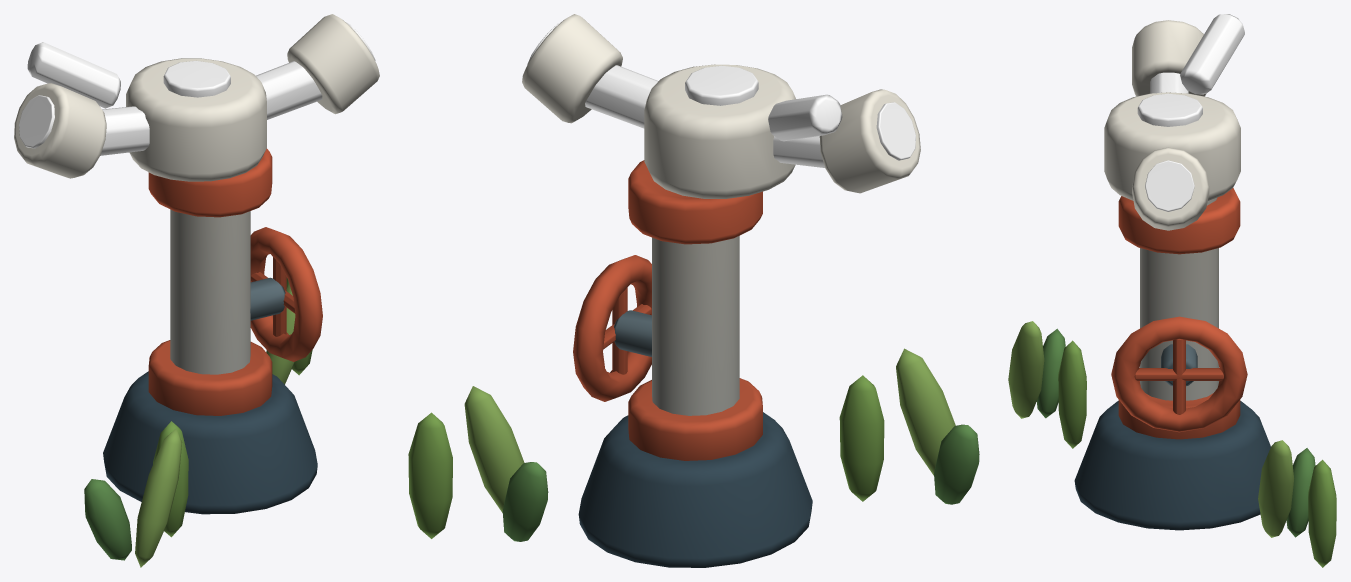
File: sprinkler.glb
3 views of the same model, side by side, from view 1: azimuth 30°, elevation 25°; view 2: azimuth 150°, elevation 25°; view 3: azimuth 270°, elevation 25° (orthographic). The views are drawn at different scales.
Parts seen in each view (by area): view 1: move_spin_head, Sprinkler_ceramic_foot, Sprinkler_copper_riser, Sprinkler_brass_collar, Sprinkler_tap_wheel, Sprinkler_brass_collar.001, decor_Grass.002, decor_Grass, decor_Grass.001, Sprinkler_tap_connector, decor_Grass.005, Sprinkler_tap_spoke.001; view 2: move_spin_head, Sprinkler_ceramic_foot, Sprinkler_copper_riser, Sprinkler_brass_collar, Sprinkler_brass_collar.001, Sprinkler_tap_wheel, decor_Grass.004, decor_Grass.001, decor_Grass.005, decor_Grass.002, decor_Grass.003, decor_Grass (+2 smaller); view 3: move_spin_head, Sprinkler_ceramic_foot, Sprinkler_tap_wheel, Sprinkler_copper_riser, Sprinkler_brass_collar.001, decor_Grass.002, decor_Grass.005, decor_Grass.004, decor_Grass.001, Sprinkler_brass_collar, decor_Grass.003, decor_Grass (+3 smaller).
Part boxes in pixels (<box>): move_spin_head: <box>14,14,379,181</box>; Sprinkler_ceramic_foot: <box>103,371,317,514</box>; Sprinkler_copper_riser: <box>170,209,250,374</box>; Sprinkler_brass_collar: <box>148,340,272,415</box>; Sprinkler_tap_wheel: <box>250,227,322,361</box>; Sprinkler_brass_collar.001: <box>148,148,272,217</box>; decor_Grass.002: <box>135,428,182,567</box>; decor_Grass: <box>84,479,131,560</box>; decor_Grass.001: <box>153,421,188,537</box>; Sprinkler_tap_connector: <box>250,277,285,320</box>; decor_Grass.005: <box>266,283,295,384</box>; Sprinkler_tap_spoke.001: <box>273,257,286,336</box>; move_spin_head: <box>522,14,920,198</box>; Sprinkler_ceramic_foot: <box>578,412,812,567</box>; Sprinkler_copper_riser: <box>652,236,739,415</box>; Sprinkler_brass_collar: <box>628,378,762,460</box>; Sprinkler_brass_collar.001: <box>628,160,762,244</box>; Sprinkler_tap_wheel: <box>573,255,651,401</box>; decor_Grass.004: <box>408,412,452,538</box>; decor_Grass.001: <box>839,375,884,501</box>; decor_Grass.005: <box>464,386,524,512</box>; decor_Grass.002: <box>896,348,955,475</box>; decor_Grass.003: <box>502,462,548,541</box>; decor_Grass: <box>934,424,979,504</box>; move_spin_head: <box>1104,14,1244,230</box>; Sprinkler_ceramic_foot: <box>1074,401,1270,530</box>; Sprinkler_tap_wheel: <box>1111,316,1247,432</box>; Sprinkler_copper_riser: <box>1140,197,1218,400</box>; Sprinkler_brass_collar.001: <box>1118,188,1240,254</box>; decor_Grass.002: <box>1008,321,1044,418</box>; decor_Grass.005: <box>1258,440,1293,537</box>; decor_Grass.004: <box>1308,459,1336,567</box>; decor_Grass.001: <box>1058,340,1086,448</box>; Sprinkler_brass_collar: <box>1118,381,1240,439</box>; decor_Grass.003: <box>1286,448,1315,537</box>; decor_Grass: <box>1036,328,1065,418</box>.
Bounding box in the file's own units: 0.7258 × 0.8187 × 0.5894.
